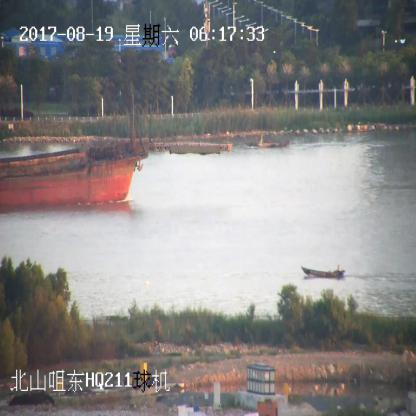Fishing Boat: (301, 265, 346, 281), (246, 136, 289, 150)
